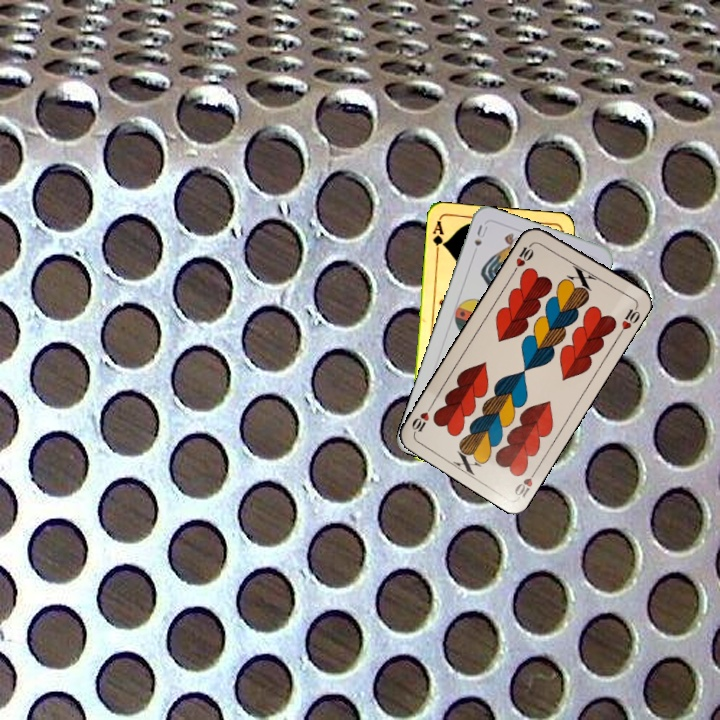GA: (429, 217, 448, 257)
H10: (510, 464, 541, 501), (509, 238, 536, 275)
SU: (470, 221, 490, 248)
